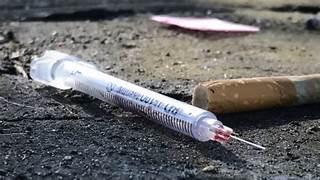Syringe: (30, 51, 263, 148)
